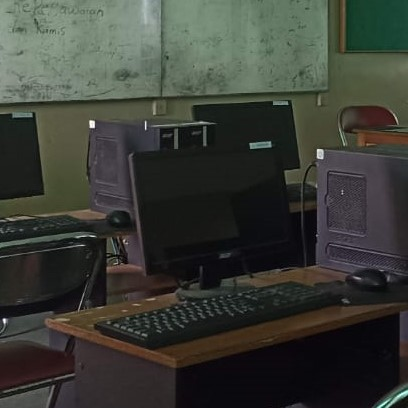monitor: (127, 144, 297, 283), (88, 116, 217, 216), (314, 146, 407, 282), (191, 100, 301, 171), (0, 111, 46, 207)
